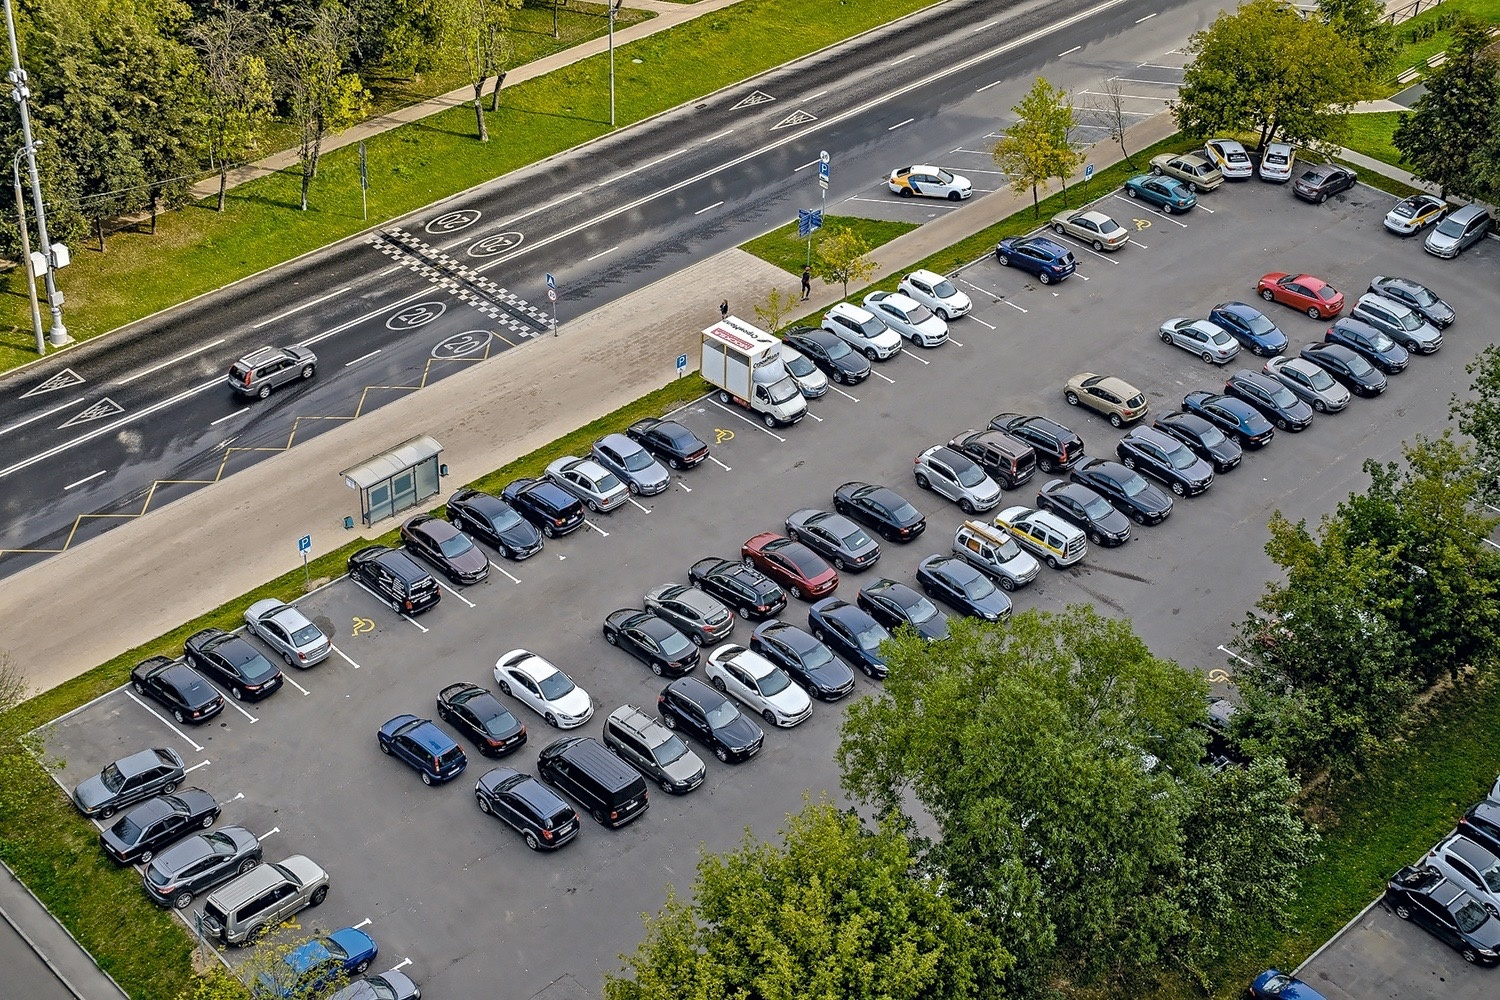Car: (699, 314, 809, 427), (198, 855, 330, 948), (1386, 866, 1500, 965), (537, 735, 650, 827), (143, 825, 265, 908), (657, 677, 766, 765), (100, 787, 221, 865), (602, 704, 706, 794), (253, 926, 378, 1000), (705, 643, 814, 727), (475, 767, 580, 850), (749, 621, 856, 702), (73, 746, 187, 820), (493, 650, 595, 730), (184, 628, 283, 703), (1069, 456, 1174, 526), (807, 596, 894, 679), (1115, 425, 1215, 497), (346, 544, 441, 618), (436, 682, 528, 759), (446, 489, 545, 560), (602, 608, 701, 679), (740, 532, 839, 602), (915, 552, 1013, 622), (951, 519, 1042, 592), (1035, 479, 1132, 547), (1422, 833, 1500, 916), (129, 656, 225, 724), (400, 515, 490, 586), (377, 714, 468, 786), (687, 556, 787, 621), (785, 508, 881, 574), (987, 412, 1086, 475), (913, 444, 1002, 515), (992, 504, 1088, 569), (243, 598, 331, 669), (831, 481, 926, 546), (643, 581, 735, 646), (1349, 292, 1443, 356), (855, 576, 946, 641), (1153, 410, 1242, 473), (1224, 369, 1314, 432), (1181, 391, 1276, 448), (948, 429, 1037, 489), (782, 326, 873, 385), (1298, 342, 1390, 398), (1262, 356, 1352, 414), (860, 290, 950, 348), (589, 433, 671, 496), (501, 478, 585, 538), (227, 345, 318, 400), (544, 455, 629, 513), (1366, 275, 1456, 329), (1325, 317, 1410, 374), (820, 301, 902, 360), (1064, 372, 1148, 427), (1209, 301, 1289, 357), (1256, 271, 1345, 320), (625, 417, 710, 469), (1158, 317, 1242, 364), (897, 269, 973, 320), (996, 235, 1076, 283), (1423, 204, 1491, 259), (1050, 209, 1129, 251), (320, 969, 421, 1000), (887, 165, 973, 201), (1148, 153, 1224, 193), (1125, 175, 1198, 214), (781, 343, 829, 400), (1383, 194, 1449, 235), (1292, 163, 1357, 203), (1246, 969, 1327, 1000), (1456, 800, 1500, 855), (1204, 138, 1254, 180), (1259, 142, 1295, 183), (1209, 696, 1231, 758), (1487, 775, 1500, 804)
